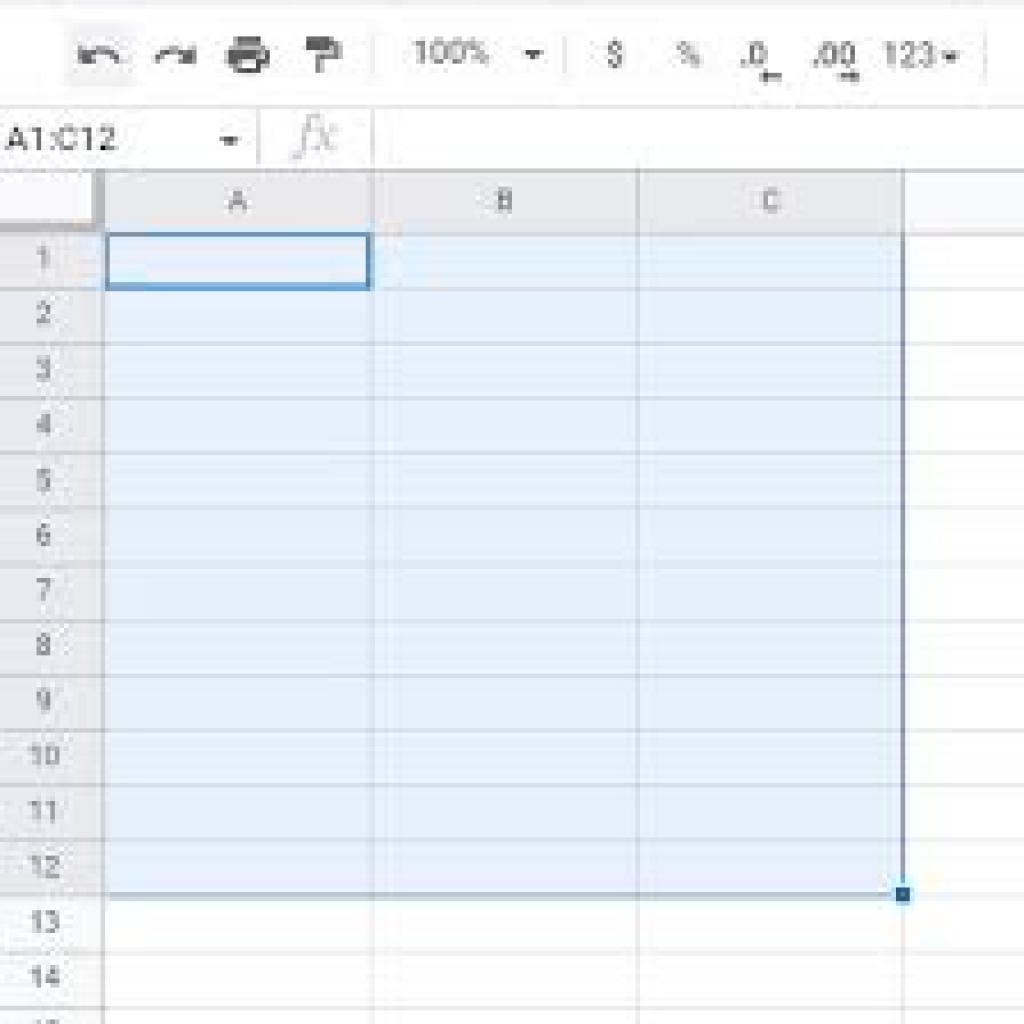table: (1, 173, 906, 896)
